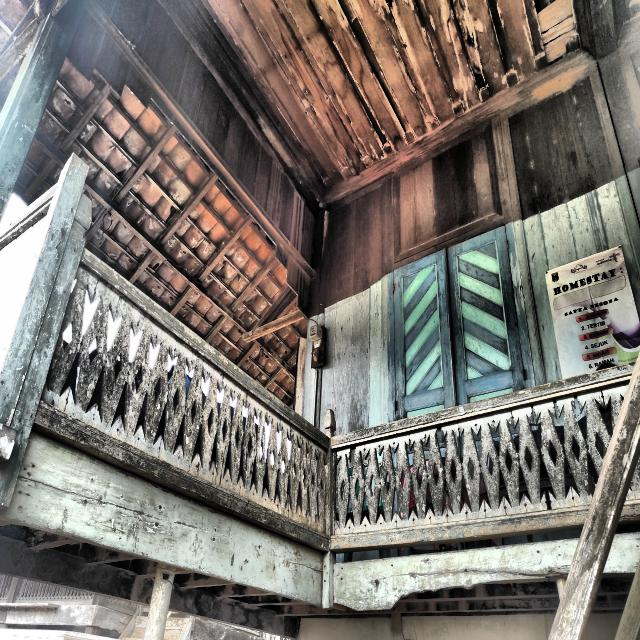ornamen: (33, 249, 640, 552)
wall: (302, 22, 640, 438)
window: (388, 226, 525, 422)
